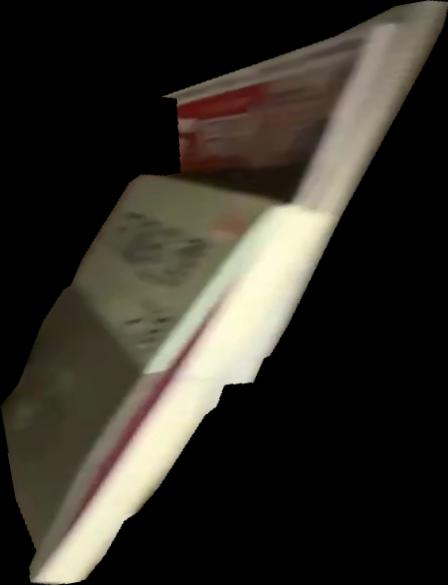backward: (1, 1, 448, 585)
